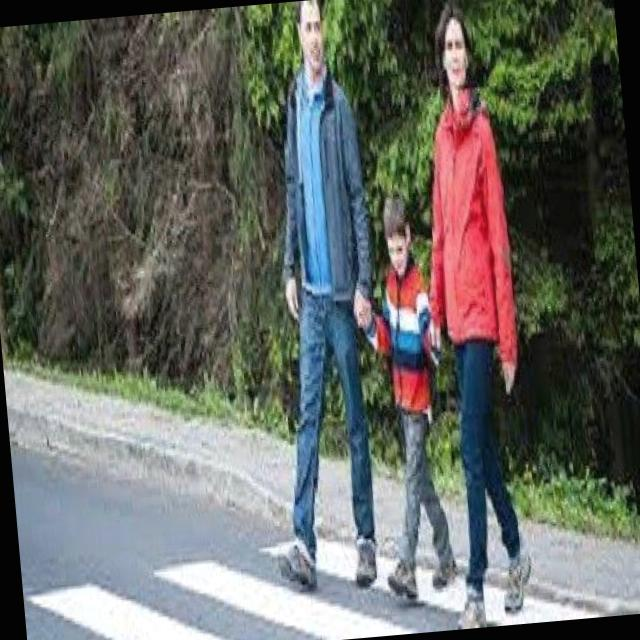Person: (228, 0, 403, 597), (400, 0, 551, 628), (352, 180, 464, 605)
